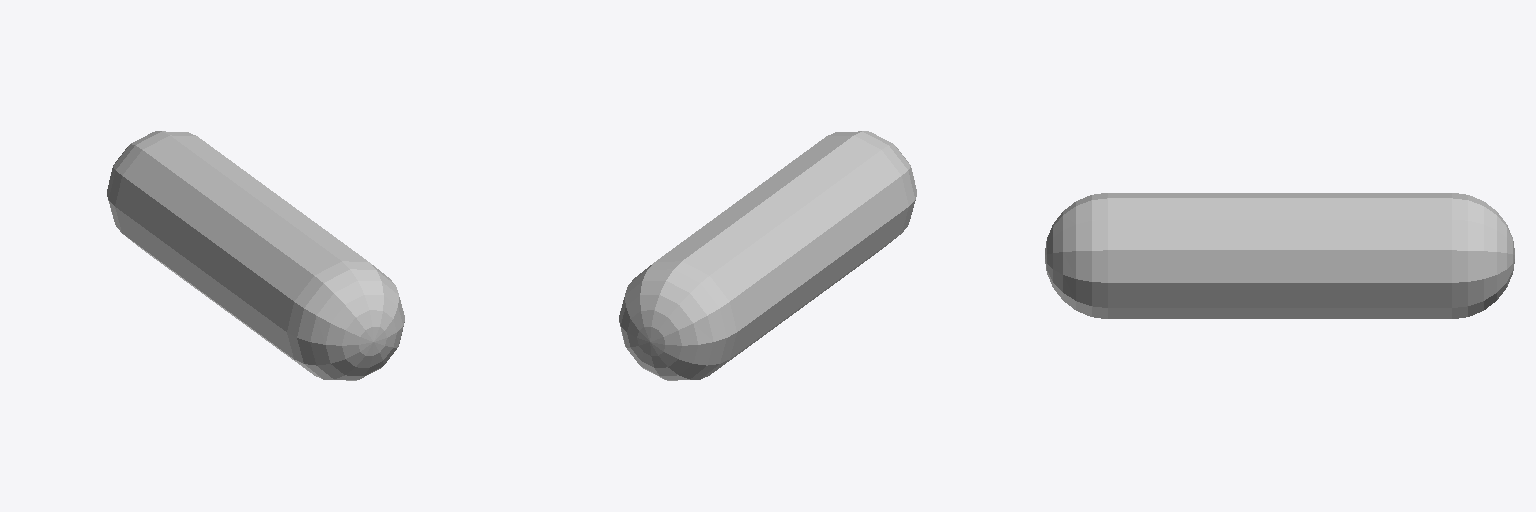
Rendered from Bullet.obj.
3 views of the same model, side by side, from view 1: azimuth 30°, elevation 25°; view 2: azimuth 150°, elevation 25°; view 3: azimuth 270°, elevation 25° (orthographic).
Parts seen in each view (by area): view 1: Capsule001; view 2: Capsule001; view 3: Capsule001.
Boxes of the visible parts, box(x1,y1,x2,y2) form: Capsule001: box(107, 131, 404, 380); Capsule001: box(619, 131, 916, 380); Capsule001: box(1045, 193, 1514, 318).
Bounding box in the file's own units: 0.3138 × 0.3138 × 1.16.